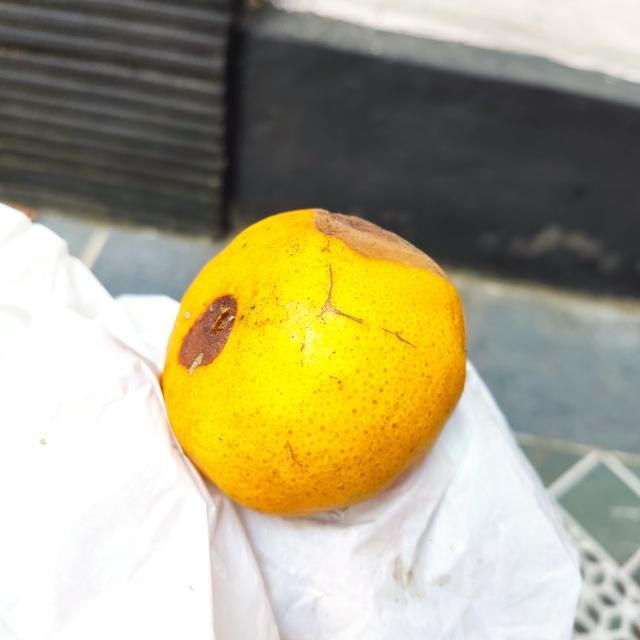orange: (160, 209, 468, 524)
